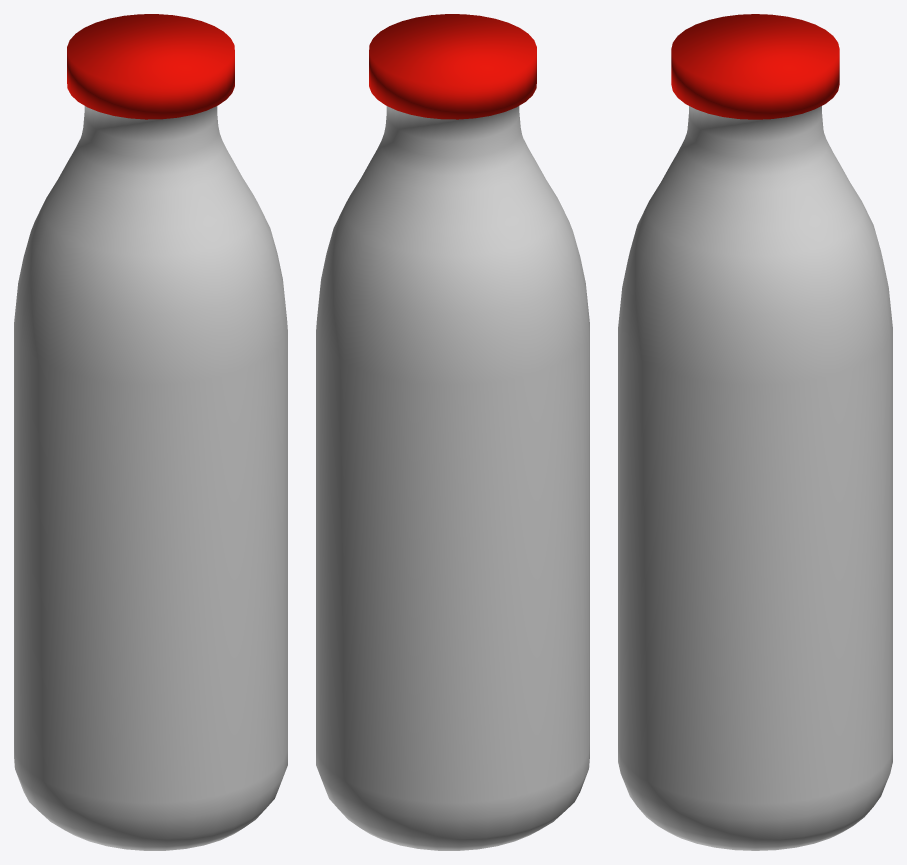
Rendered from bos_kapakl_sise.fbx.
The picture shows the model from 3 angles, left to right: view 1: azimuth 30°, elevation 25°; view 2: azimuth 150°, elevation 25°; view 3: azimuth 270°, elevation 25°; orthographic projection.
Visible parts, largest first — view 1: sise, kapak; view 2: sise, kapak; view 3: sise, kapak.
Part boxes in pixels (left/top/right/bottom): sise: left=14, top=106, right=287, bottom=850; kapak: left=67, top=14, right=234, bottom=119; sise: left=316, top=106, right=589, bottom=850; kapak: left=369, top=14, right=536, bottom=119; sise: left=618, top=106, right=892, bottom=850; kapak: left=671, top=14, right=839, bottom=119.
Bounding box in the file's own units: 96.62 × 294 × 96.62.
